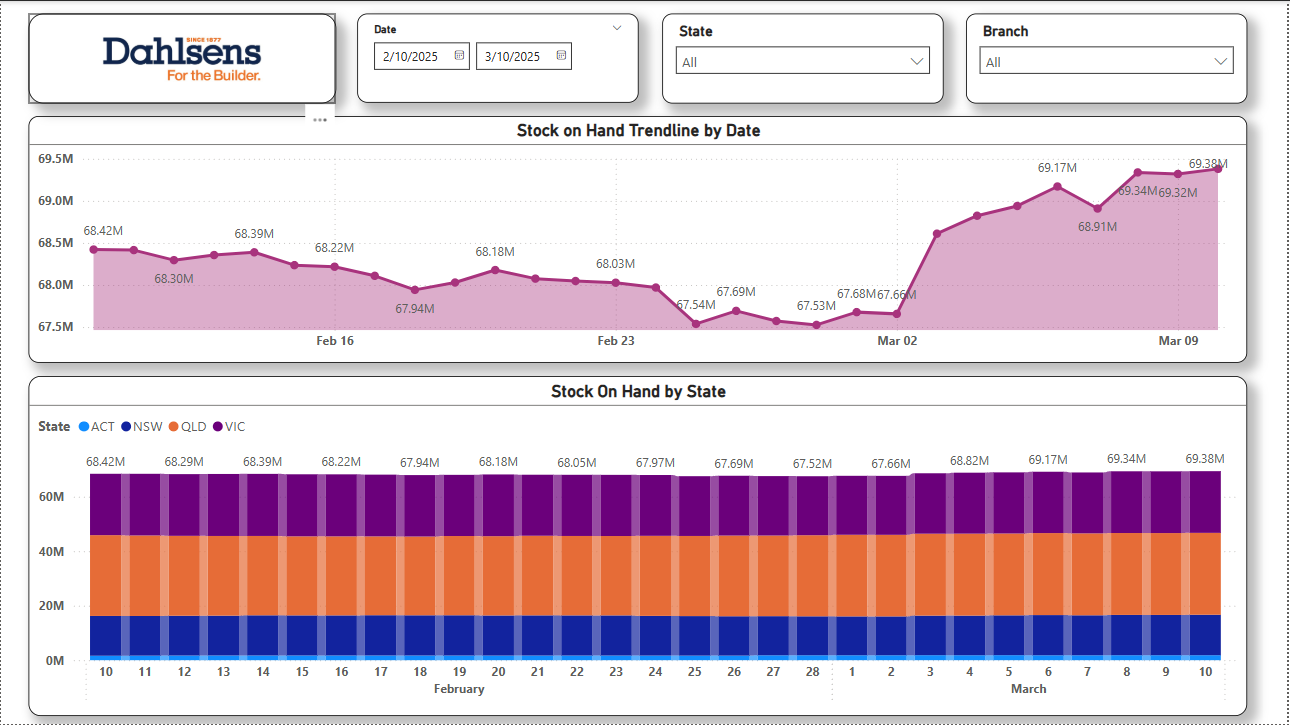

The page's visual inventory and layout, read from the dashboard file:
{"tool":"powerbi","page":{"name":"Inventory - Historic Stock on Hand","canvas":[1280,720],"ordinal":1},"visuals":[{"type":"slicer","fields":{"Values":["Query2.date"]},"box":[354,12.3,279.9,89.2],"z":0},{"type":"slicer","fields":{"Values":["Query2.state"]},"box":[658.1,12.4,279.9,89.6],"z":1000},{"type":"slicer","fields":{"Values":["Query2.branch"]},"box":[960.3,12.4,279.9,89.6],"z":2000},{"type":"lineChart","title":"Stock on Hand Trendline by Date","fields":{"Y":["Sum(Query2.stock_on_hand)"],"Category":["Query2.date.Variation.Date Hierarchy.Year","Query2.date.Variation.Date Hierarchy.Month","Query2.date.Variation.Date Hierarchy.Day"]},"box":[27.4,113.9,1213,245.6],"z":3000},{"type":"columnChart","title":"Stock On Hand by State","fields":{"Category":["Query2.date.Variation.Date Hierarchy.Month","Query2.date.Variation.Date Hierarchy.Day"],"Y":["Sum(Query2.stock_on_hand)"],"Series":["Query2.state"]},"box":[27.4,373.2,1212.9,338.4],"z":4000},{"type":"image","box":[27.4,12.4,306,89.6],"z":5000}]}

Visuals, with their boxes in screenshot pixels (x1, y1, x2, y2), scaled from the page's 1280x720 canvas onto the 1290x725 screenshot:
slicer - Query2.date: [357, 12, 639, 102]
slicer - Query2.state: [663, 12, 945, 103]
slicer - Query2.branch: [968, 12, 1250, 103]
"Stock on Hand Trendline by Date" lineChart: [28, 115, 1250, 362]
"Stock On Hand by State" columnChart: [28, 376, 1250, 717]
image: [28, 12, 336, 103]
